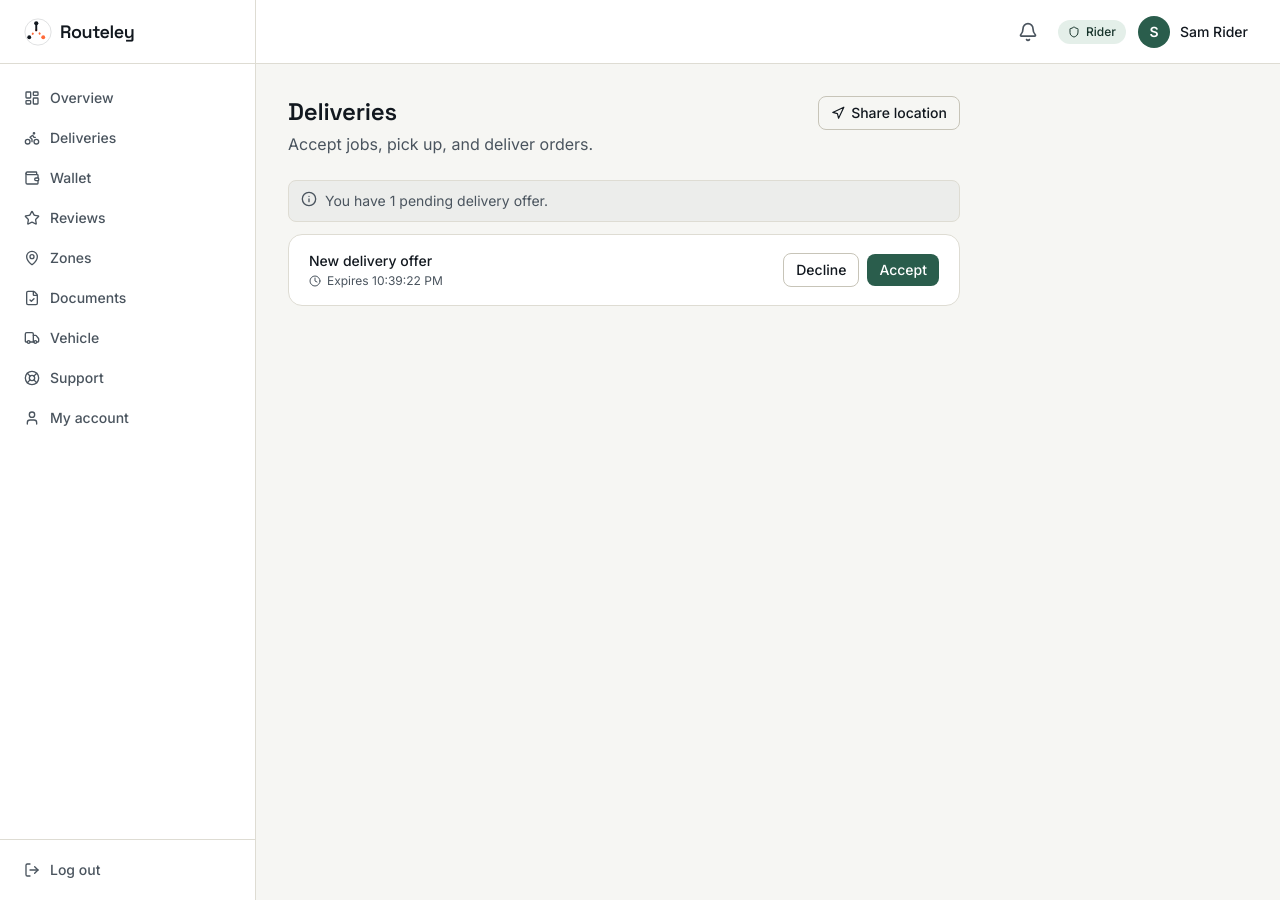
Test: DeliveriesPage - critical rider delivery flow › shows a pending offer and accepts it, revealing the active delivery
Check: the text "You have 1 pending delivery offer." is shown, box [325,191,548,211]
Click the button "Accept". click: (903, 270)
box: [867,254,939,286]
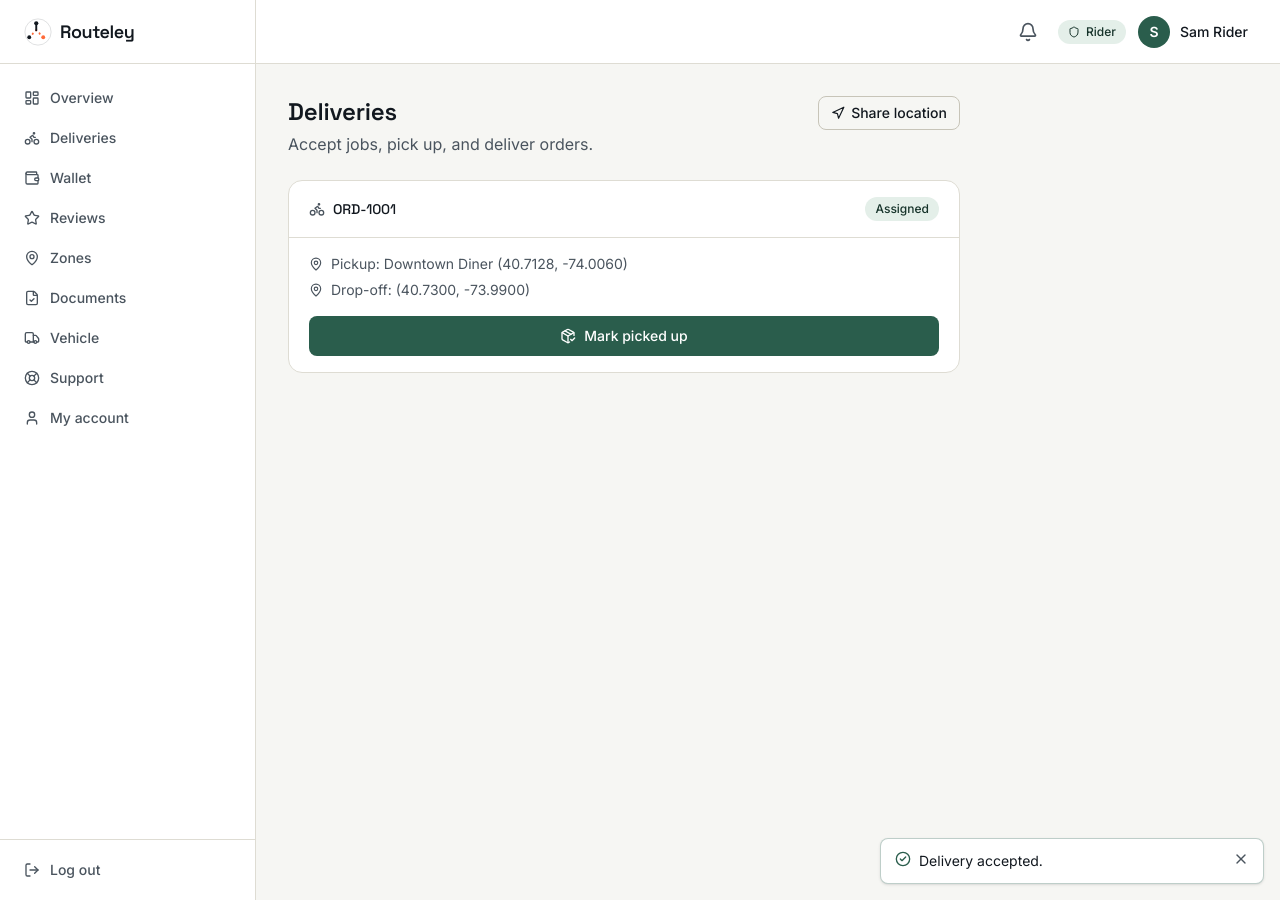
Check: the text "Delivery accepted." is shown, box [919,852,1043,869]
Check: the heading "ORD-1001" is shown, box [333,199,396,219]
